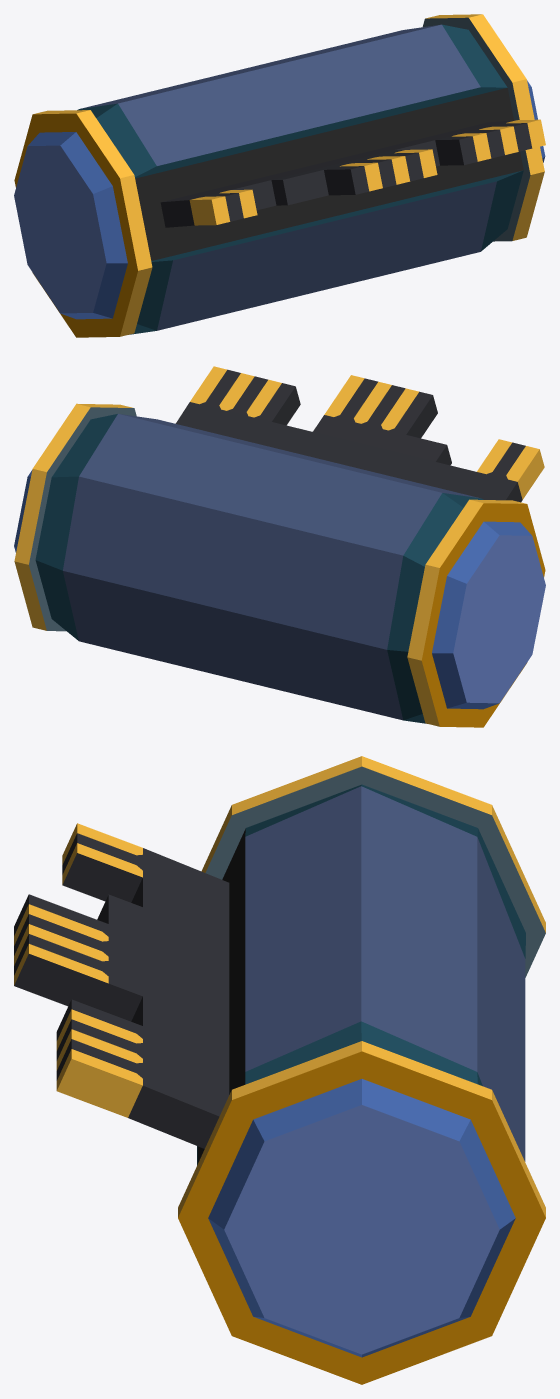
Rendered from Chip_01.glb.
3 views of the same model, one above another, from view 1: azimuth 30°, elevation 25°; view 2: azimuth 150°, elevation 25°; view 3: azimuth 270°, elevation 25° (orthographic). The views are drawn at different scales.
Parts seen in each view (by area): view 1: Chip_01; view 2: Chip_01; view 3: Chip_01.
Part boxes in pixels (x1,y1,x2,y2): Chip_01: (14, 14, 545, 337); Chip_01: (14, 366, 545, 727); Chip_01: (14, 756, 545, 1384).
Size of what is drawn, in the model's own units: 0.8049 by 0.4083 by 0.5682.
Materials: 1 (1 with a texture image).
